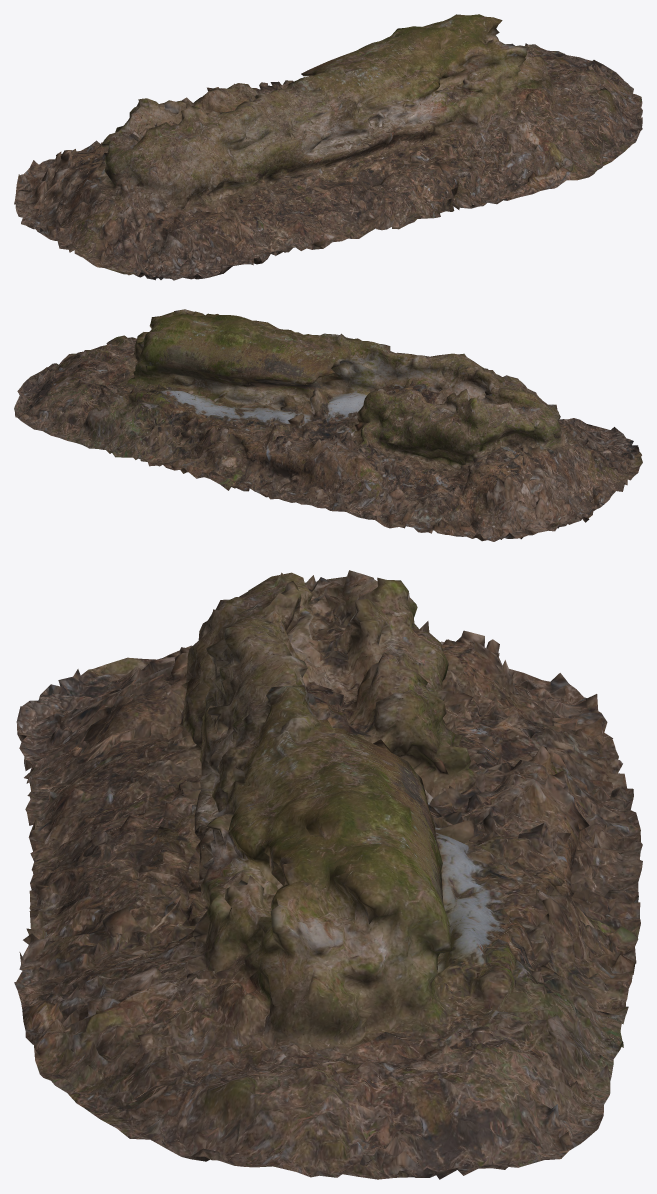
The model's file is PX_Fallen_Trunk_03_LOD1.fbx.
The picture shows the model from 3 angles, top to bottom: view 1: azimuth 30°, elevation 25°; view 2: azimuth 150°, elevation 25°; view 3: azimuth 270°, elevation 25°; orthographic projection. The views are drawn at different scales.
Visible parts, largest first — view 1: PX_Fallen_Trunk_03_LOD1; view 2: PX_Fallen_Trunk_03_LOD1; view 3: PX_Fallen_Trunk_03_LOD1.
Part boxes in pixels (x1=…): PX_Fallen_Trunk_03_LOD1: x1=14, y1=14, x2=642, y2=280; PX_Fallen_Trunk_03_LOD1: x1=14, y1=309, x2=642, y2=541; PX_Fallen_Trunk_03_LOD1: x1=14, y1=570, x2=642, y2=1179.
Size of the model in its own units: 179 by 32.68 by 87.87.
